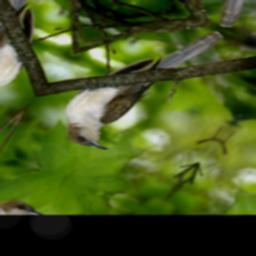Cuckoo: (42, 5, 227, 160)
